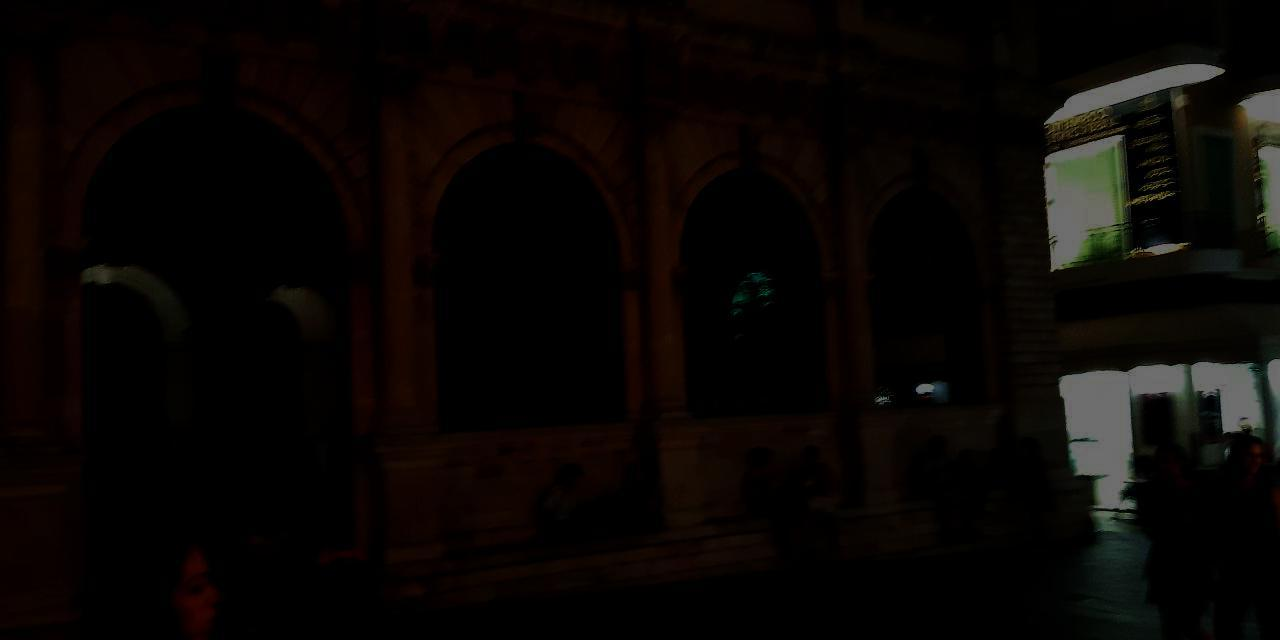Loggia: (1, 1, 1095, 640)
